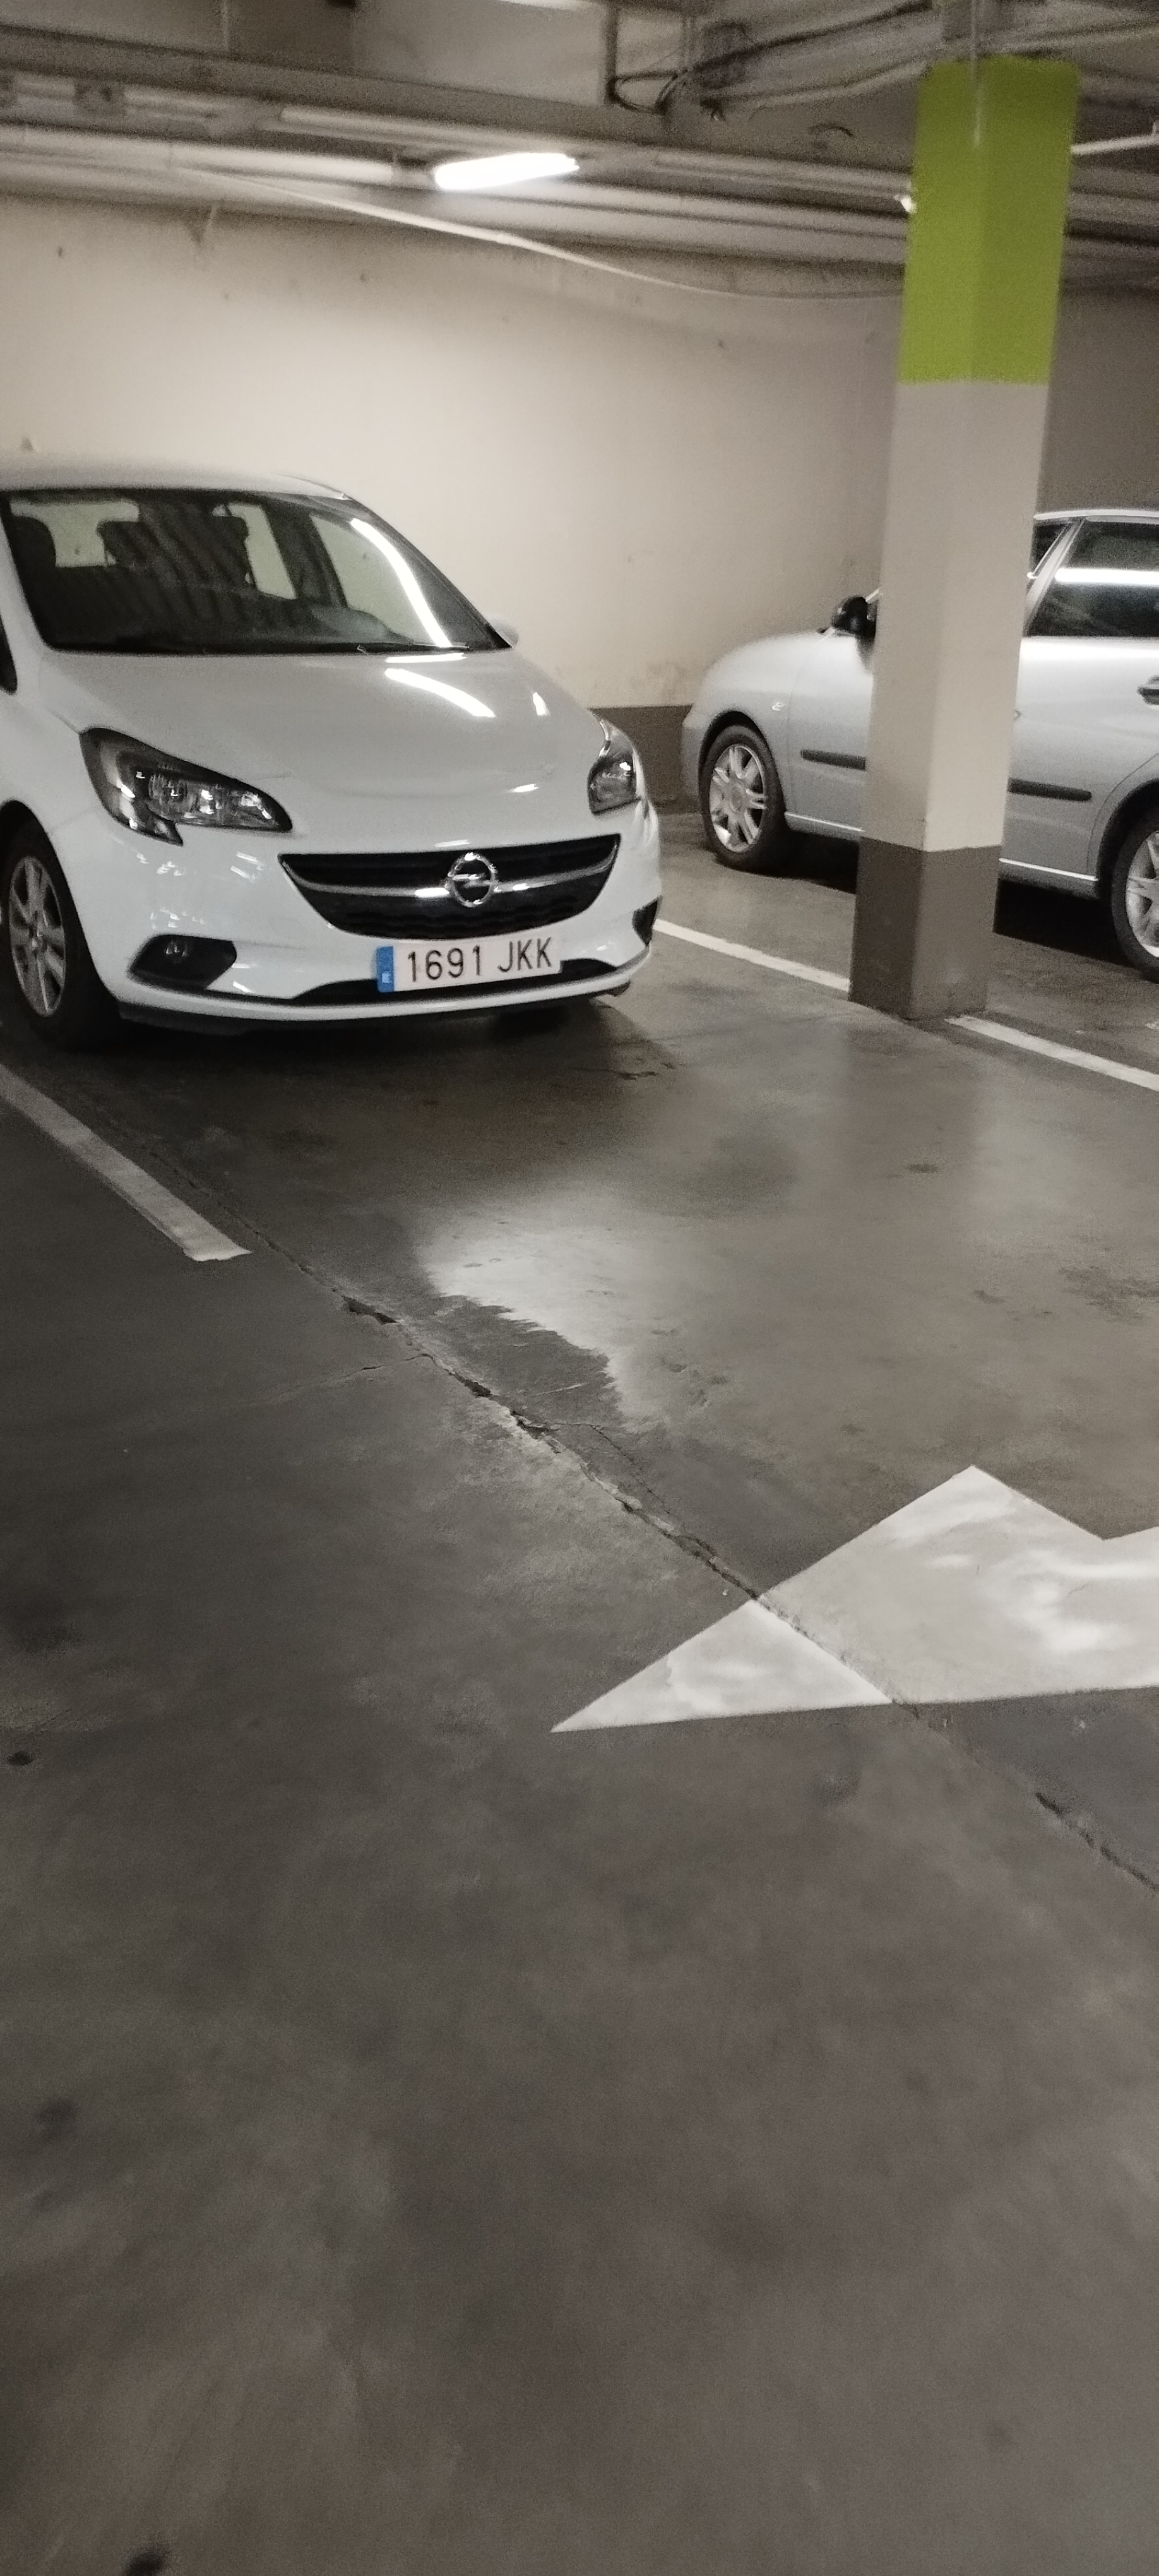Car: (0, 463, 660, 1029)
Plate: (380, 951, 569, 994)
